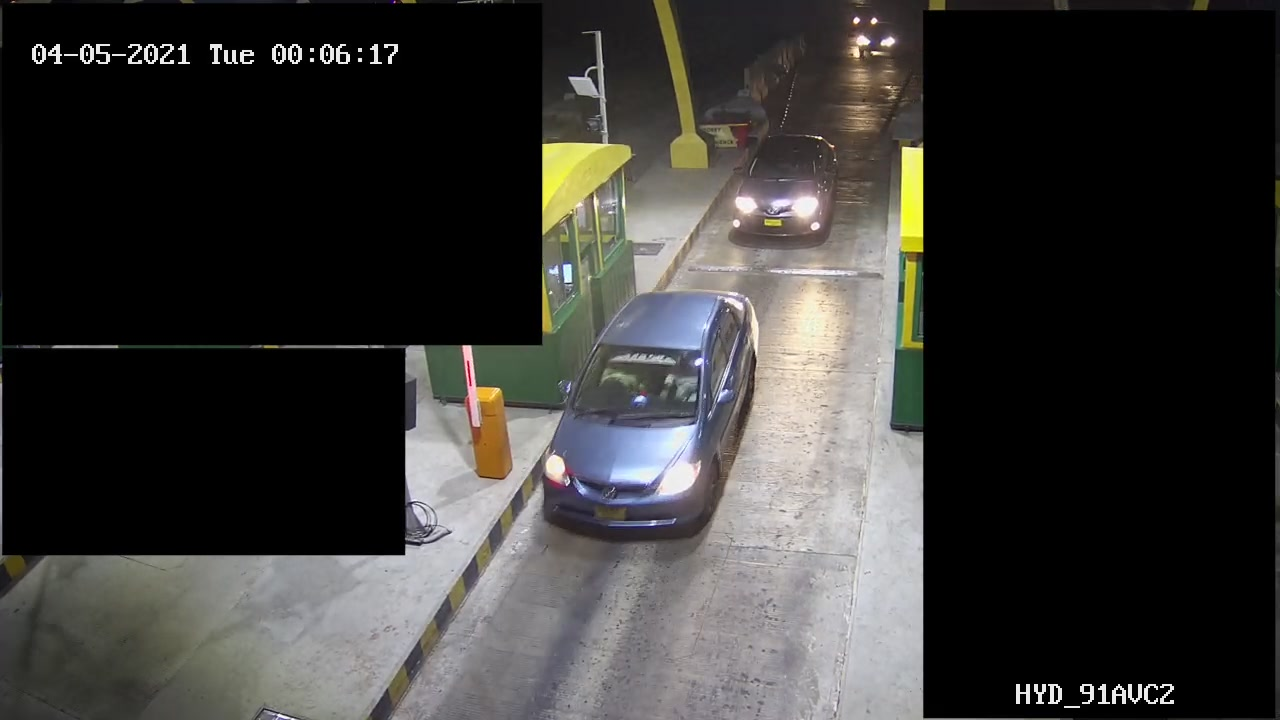F1: (529, 275, 757, 551), (718, 130, 850, 243)
